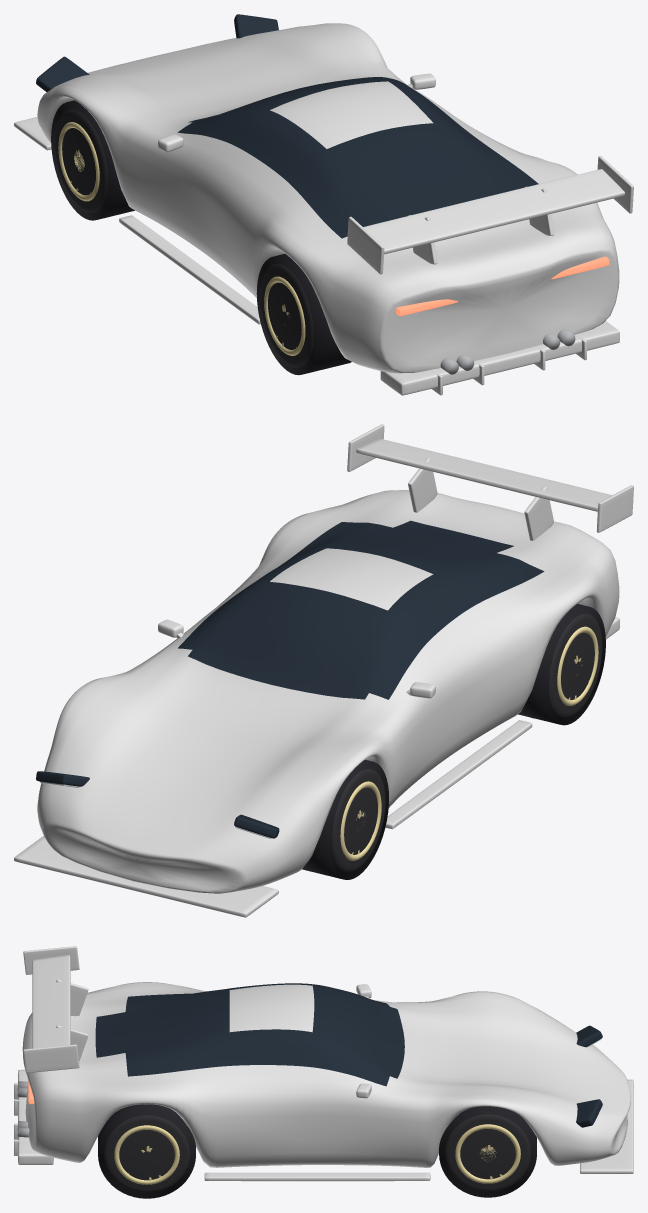
The picture shows the model from 3 angles, top to bottom: view 1: azimuth 30°, elevation 25°; view 2: azimuth 150°, elevation 25°; view 3: azimuth 270°, elevation 25°; orthographic projection. The views are drawn at different scales.
Parts seen in each view (by area): view 1: Chassis, Aero_Wing_Blade, Aero_Rear_Diffuser, Wheel_RL, Wheel_FL, Liner_Wheel_RL, Aero_Skirt_L, Liner_Wheel_FL, Aero_Wing_Plate_L, Taillight_Lightbar, Headlight_Housing_-1.0, Torus (+4 smaller); view 2: Chassis, Aero_Wing_Blade, Aero_Front_Splitter, Wheel_RL, Wheel_FL, Liner_Wheel_RL, Aero_Skirt_L, Liner_Wheel_FL, Aero_Wing_Plate_L, Aero_Wing_Strut_R, Aero_Wing_Strut_L, Torus (+2 smaller); view 3: Chassis, Wheel_RR, Wheel_FR, Aero_Wing_Blade, Liner_Wheel_RR, Aero_Skirt_R, Liner_Wheel_FR, Aero_Front_Splitter, Aero_Wing_Plate_R, Torus.003, Torus.001, Aero_Rear_Diffuser (+4 smaller).
Part boxes in pixels (x1=…): Chassis: x1=37, y1=23, x2=619, y2=373; Aero_Wing_Blade: x1=363, y1=169, x2=624, y2=254; Aero_Rear_Diffuser: x1=380, y1=321, x2=619, y2=395; Wheel_RL: x1=260, y1=264, x2=313, y2=367; Wheel_FL: x1=54, y1=109, x2=107, y2=212; Liner_Wheel_RL: x1=256, y1=254, x2=351, y2=375; Aero_Skirt_L: x1=119, y1=215, x2=260, y2=324; Liner_Wheel_FL: x1=51, y1=100, x2=134, y2=220; Aero_Wing_Plate_L: x1=347, y1=216, x2=384, y2=274; Taillight_Lightbar: x1=396, y1=256, x2=609, y2=316; Headlight_Housing_-1.0: x1=36, y1=56, x2=89, y2=91; Torus: x1=58, y1=122, x2=99, y2=201; Chassis: x1=37, y1=490, x2=619, y2=893; Aero_Wing_Blade: x1=356, y1=438, x2=611, y2=511; Aero_Front_Splitter: x1=14, y1=836, x2=278, y2=917; Wheel_RL: x1=532, y1=613, x2=602, y2=718; Wheel_FL: x1=332, y1=768, x2=385, y2=872; Liner_Wheel_RL: x1=518, y1=604, x2=605, y2=725; Aero_Skirt_L: x1=385, y1=720, x2=532, y2=829; Liner_Wheel_FL: x1=302, y1=759, x2=388, y2=879; Aero_Wing_Plate_L: x1=596, y1=485, x2=633, y2=532; Aero_Wing_Strut_R: x1=408, y1=458, x2=437, y2=512; Aero_Wing_Strut_L: x1=524, y1=486, x2=553, y2=540; Torus: x1=340, y1=781, x2=381, y2=860; Chassis: x1=22, y1=982, x2=630, y2=1167; Wheel_RR: x1=104, y1=1115, x2=189, y2=1192; Wheel_FR: x1=445, y1=1114, x2=530, y2=1191; Aero_Wing_Blade: x1=32, y1=955, x2=70, y2=1048; Liner_Wheel_RR: x1=98, y1=1104, x2=195, y2=1198; Aero_Skirt_R: x1=204, y1=1172, x2=430, y2=1181; Liner_Wheel_FR: x1=439, y1=1106, x2=536, y2=1197; Aero_Front_Splitter: x1=580, y1=1079, x2=633, y2=1173; Aero_Wing_Plate_R: x1=23, y1=1044, x2=79, y2=1072; Torus.003: x1=114, y1=1125, x2=179, y2=1184; Torus.001: x1=455, y1=1124, x2=520, y2=1183; Aero_Rear_Diffuser: x1=18, y1=1069, x2=53, y2=1164.
Bounding box in the file's own units: 214 × 126 × 480.
